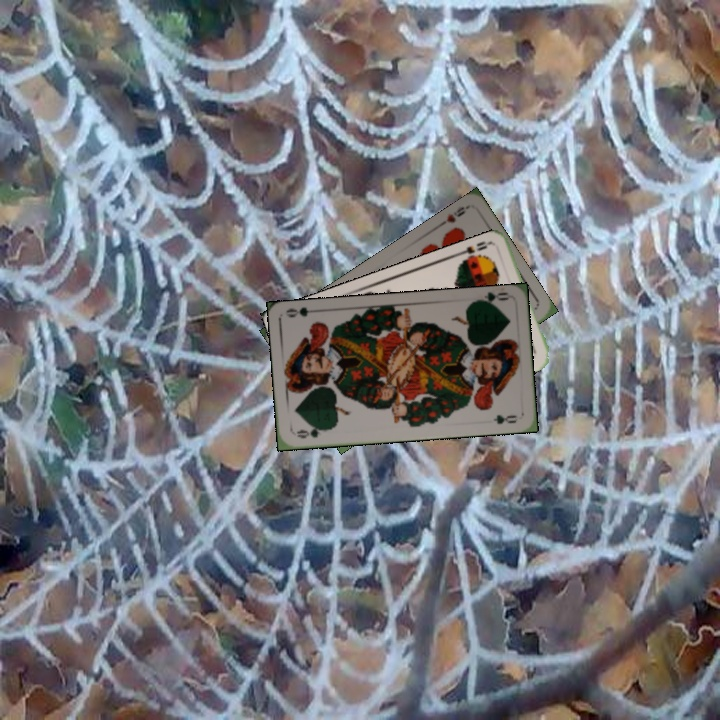GO: (471, 288, 511, 309), (293, 423, 332, 441)
H9: (434, 202, 471, 230)
SO: (455, 237, 495, 265)
